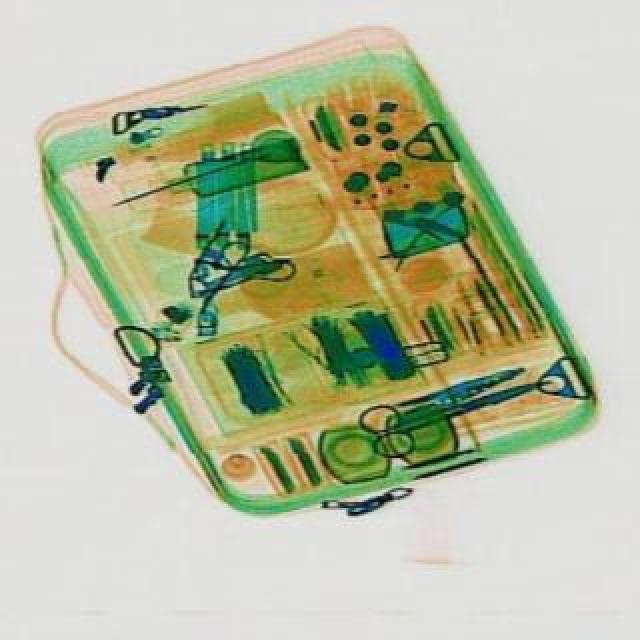pliers: (354, 352, 558, 464)
